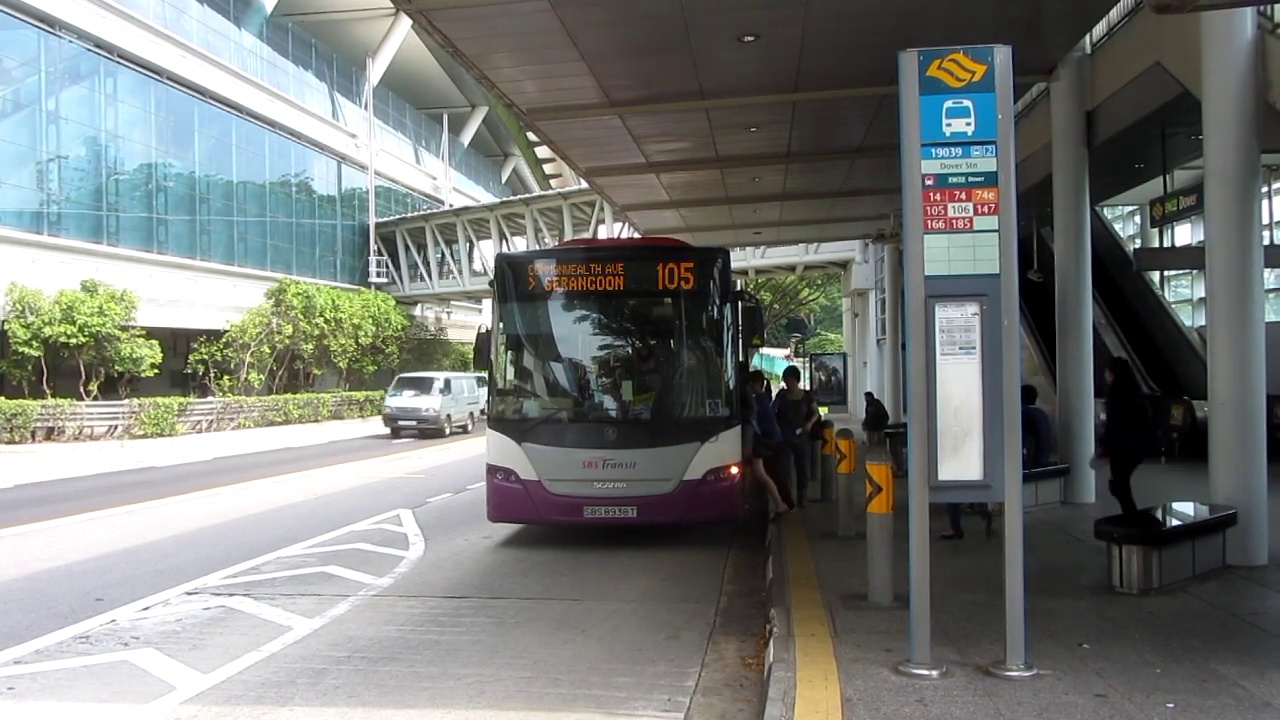bus panel: (520, 258, 701, 294)
